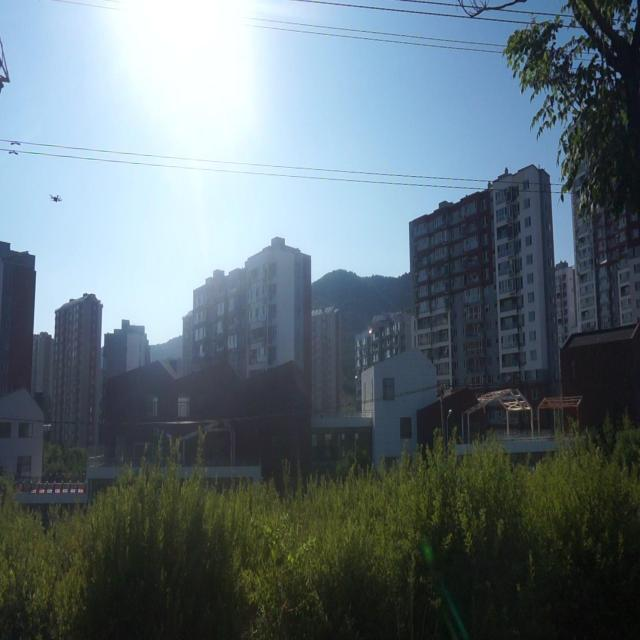drone: (47, 190, 64, 208)
